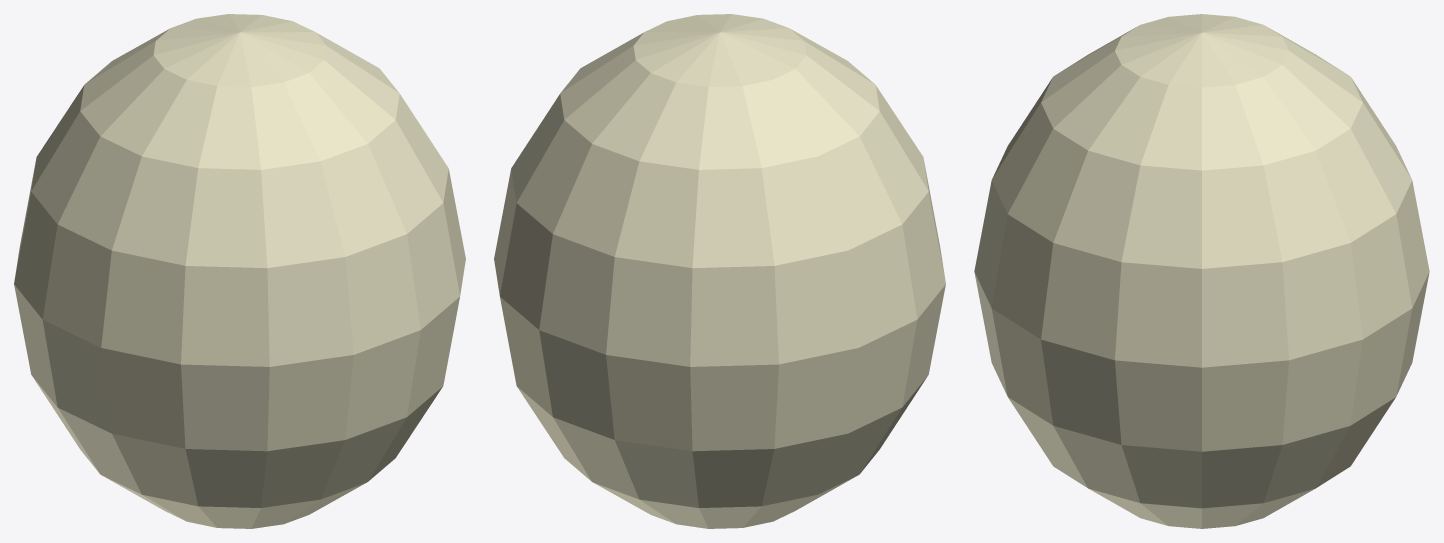
The model's file is EggBoiled.fbx.
The picture shows the model from 3 angles, left to right: view 1: azimuth 30°, elevation 25°; view 2: azimuth 150°, elevation 25°; view 3: azimuth 270°, elevation 25°; orthographic projection.
Visible parts, largest first — view 1: EggShelless; view 2: EggShelless; view 3: EggShelless.
Boxes of the visible parts, x1,y1,x2,y2 form: EggShelless: (14, 14, 465, 528); EggShelless: (494, 14, 945, 528); EggShelless: (974, 14, 1429, 528).
Bounding box in the file's own units: 130 × 150 × 130.
